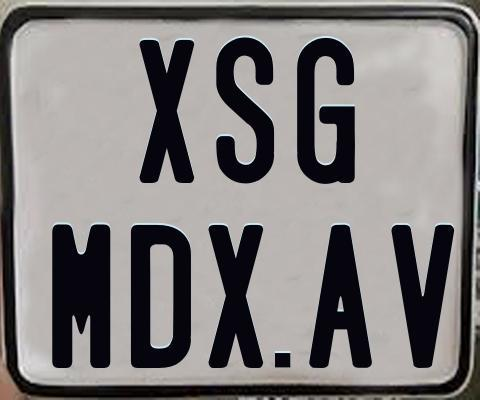A: (309, 224, 375, 367)
D: (130, 222, 196, 368)
G: (295, 37, 355, 187)
M: (51, 224, 113, 374)
S: (215, 37, 278, 190)
V: (391, 224, 454, 368)
X: (139, 39, 196, 183), (208, 225, 264, 369)
